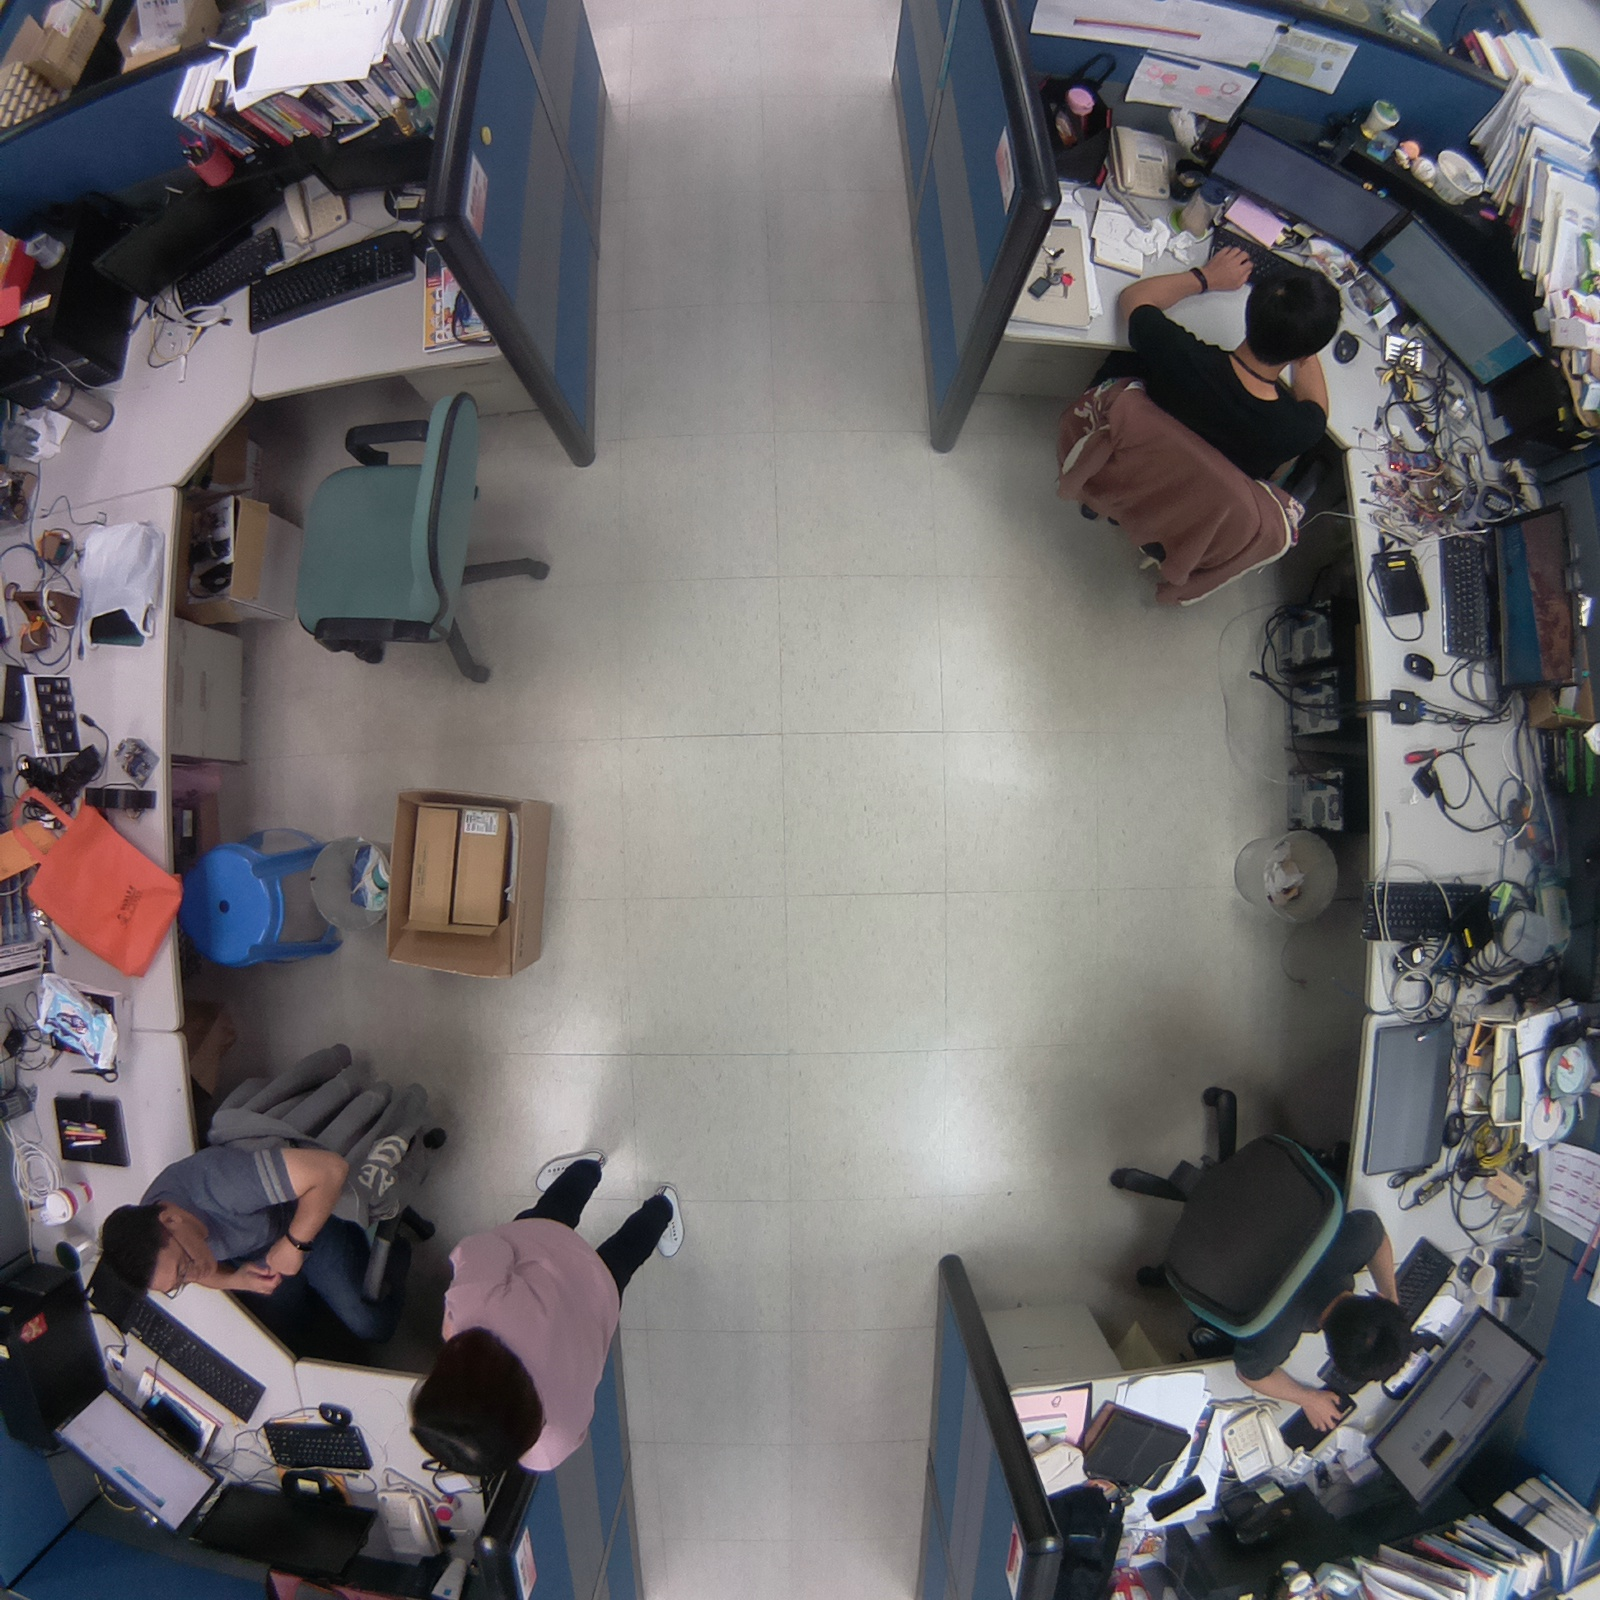chair: (276, 365, 578, 704)
head: (401, 1320, 556, 1484), (88, 1190, 221, 1306), (1235, 259, 1354, 367), (1322, 1275, 1417, 1393)
sitting: (1083, 1073, 1419, 1441), (81, 1024, 465, 1340), (1040, 238, 1344, 627)
standing: (385, 1129, 707, 1492)
